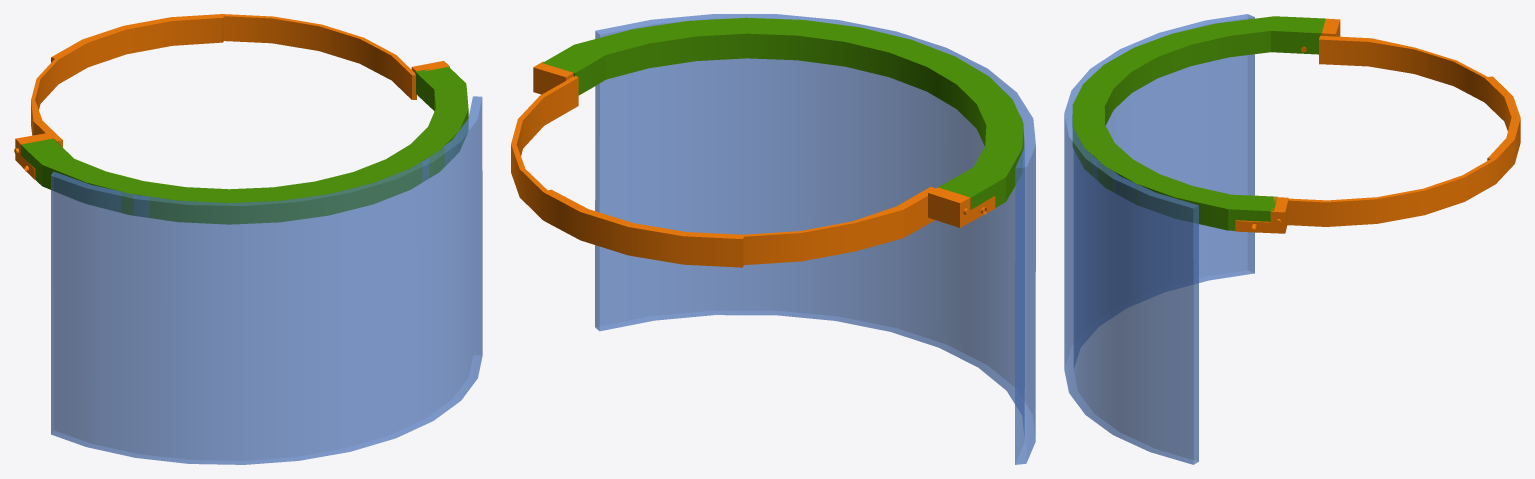
Rendered from visor.obj.
3 renders of one model, left to right at view 1: azimuth 30°, elevation 25°; view 2: azimuth 150°, elevation 25°; view 3: azimuth 270°, elevation 25°, orthographic. The views are drawn at different scales.
Visible parts, largest first — view 1: Mesh4 Group3 Model, Mesh13 Model, Mesh3 Group1 Model, Mesh6 Group6 Group5 Group4 Model, Mesh12 Group4 Model, Mesh2 Group2 Group1 Model, Mesh1 Group2 Group1 Model, Mesh7 Group8 Group7 Group5 Group4 Model; view 2: Mesh4 Group3 Model, Mesh3 Group1 Model, Mesh13 Model, Mesh6 Group6 Group5 Group4 Model, Mesh12 Group4 Model, Mesh5 Group6 Group5 Group4 Model, Mesh2 Group2 Group1 Model, Mesh1 Group2 Group1 Model, Mesh7 Group8 Group7 Group5 Group4 Model, Mesh10 Group10 Group5 Group4 Model; view 3: Mesh4 Group3 Model, Mesh3 Group1 Model, Mesh6 Group6 Group5 Group4 Model, Mesh13 Model, Mesh12 Group4 Model, Mesh2 Group2 Group1 Model, Mesh1 Group2 Group1 Model, Mesh10 Group10 Group5 Group4 Model.
Part boxes in pixels (left/top/right/bottom): Mesh4 Group3 Model: left=51, top=96, right=482, bottom=464; Mesh13 Model: left=51, top=91, right=468, bottom=224; Mesh3 Group1 Model: left=52, top=89, right=468, bottom=202; Mesh6 Group6 Group5 Group4 Model: left=51, top=14, right=416, bottom=99; Mesh12 Group4 Model: left=31, top=16, right=223, bottom=147; Mesh2 Group2 Group1 Model: left=21, top=138, right=73, bottom=189; Mesh1 Group2 Group1 Model: left=415, top=66, right=466, bottom=110; Mesh7 Group8 Group7 Group5 Group4 Model: left=15, top=133, right=53, bottom=179; Mesh4 Group3 Model: left=595, top=14, right=1035, bottom=464; Mesh3 Group1 Model: left=587, top=17, right=1023, bottom=170; Mesh13 Model: left=606, top=33, right=1023, bottom=194; Mesh6 Group6 Group5 Group4 Model: left=511, top=76, right=743, bottom=267; Mesh12 Group4 Model: left=548, top=187, right=933, bottom=265; Mesh5 Group6 Group5 Group4 Model: left=854, top=188, right=935, bottom=251; Mesh2 Group2 Group1 Model: left=938, top=167, right=1020, bottom=209; Mesh1 Group2 Group1 Model: left=542, top=41, right=606, bottom=95; Mesh7 Group8 Group7 Group5 Group4 Model: left=928, top=187, right=995, bottom=227; Mesh10 Group10 Group5 Group4 Model: left=533, top=61, right=573, bottom=94; Mesh4 Group3 Model: left=1064, top=14, right=1254, bottom=464; Mesh3 Group1 Model: left=1072, top=18, right=1270, bottom=206; Mesh6 Group6 Group5 Group4 Model: left=1287, top=76, right=1520, bottom=226; Mesh13 Model: left=1072, top=31, right=1270, bottom=227; Mesh12 Group4 Model: left=1319, top=38, right=1515, bottom=160; Mesh2 Group2 Group1 Model: left=1262, top=16, right=1325, bottom=54; Mesh1 Group2 Group1 Model: left=1216, top=194, right=1277, bottom=230; Mesh10 Group10 Group5 Group4 Model: left=1235, top=197, right=1288, bottom=233.
Bounding box in the file's own units: 10.04 × 6.01 × 9.69.
